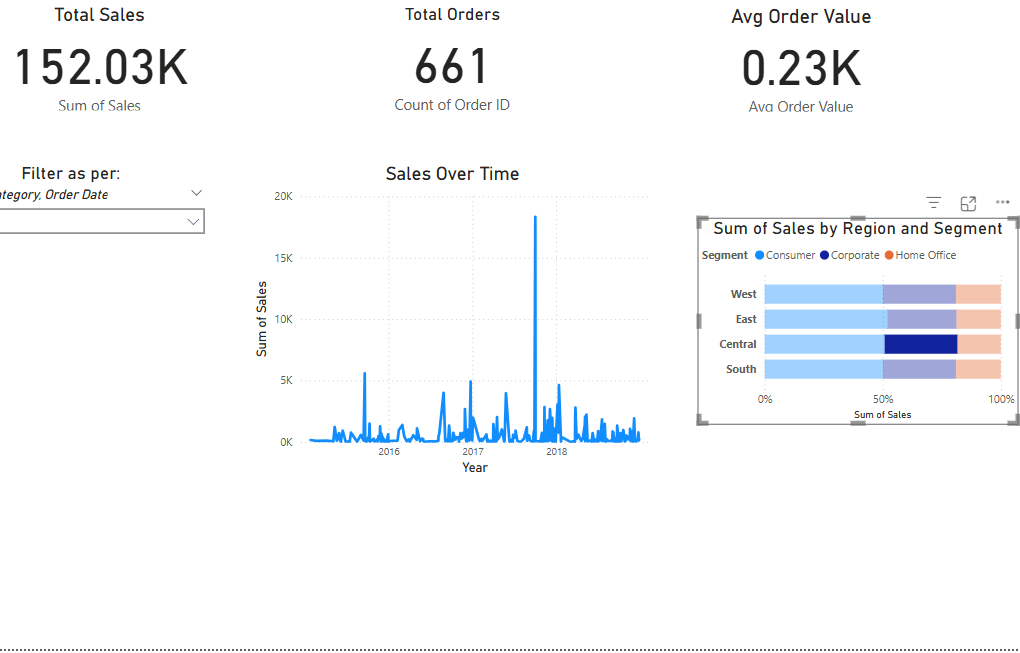

This screenshot's page, from the dashboard's own definition file:
{"tool":"powerbi","page":{"name":"Page 1","canvas":[1280,720],"ordinal":0},"visuals":[{"type":"card","title":"Total Sales","fields":{"Values":["Sum(superstore.Sales)"]},"box":[126.2,11,251.1,122.1],"z":0},{"type":"card","title":"Total Orders","fields":{"Values":["CountNonNull(superstore.Order ID)"]},"box":[491.3,11,296.4,122.1],"z":1000},{"type":"card","title":"Avg Order Value","fields":{"Values":["superstore.Avg Order Value"]},"box":[894.7,12.3,255.2,122.1],"z":2000},{"type":"lineChart","title":"Sales Over Time","fields":{"Y":["Sum(superstore.Sales)"],"Category":["superstore.Order Date.Variation.Date Hierarchy.Year","superstore.Order Date.Variation.Date Hierarchy.Quarter","superstore.Order Date.Variation.Date Hierarchy.Month","superstore.Order Date.Variation.Date Hierarchy.Day"]},"box":[417.2,185.2,444.6,348.5],"z":3000},{"type":"hundredPercentStackedBarChart","fields":{"Y":["Sum(superstore.Sales)"],"Category":["superstore.Region"],"Series":["superstore.Segment"]},"box":[908.4,245.6,352.7,227.8],"z":4000},{"type":"slicer","title":"Filter as per:","fields":{"Values":["superstore.Region","superstore.Category","superstore.Order Date"]},"box":[63.1,185.2,314.2,159.2],"z":5000}]}

Visuals, with their boxes on the page's 1280x720 design canvas (x1, y1, x2, y2). These are canvas units, not pixel positions in the 1020x653 screenshot, which may show the page scaled, cropped or inside an application window:
"Total Sales" card: 126, 11, 377, 133
"Total Orders" card: 491, 11, 788, 133
"Avg Order Value" card: 895, 12, 1150, 134
"Sales Over Time" lineChart: 417, 185, 862, 534
hundredPercentStackedBarChart - Sum(superstore.Sales) x superstore.Region: 908, 246, 1261, 473
"Filter as per:" slicer: 63, 185, 377, 344
